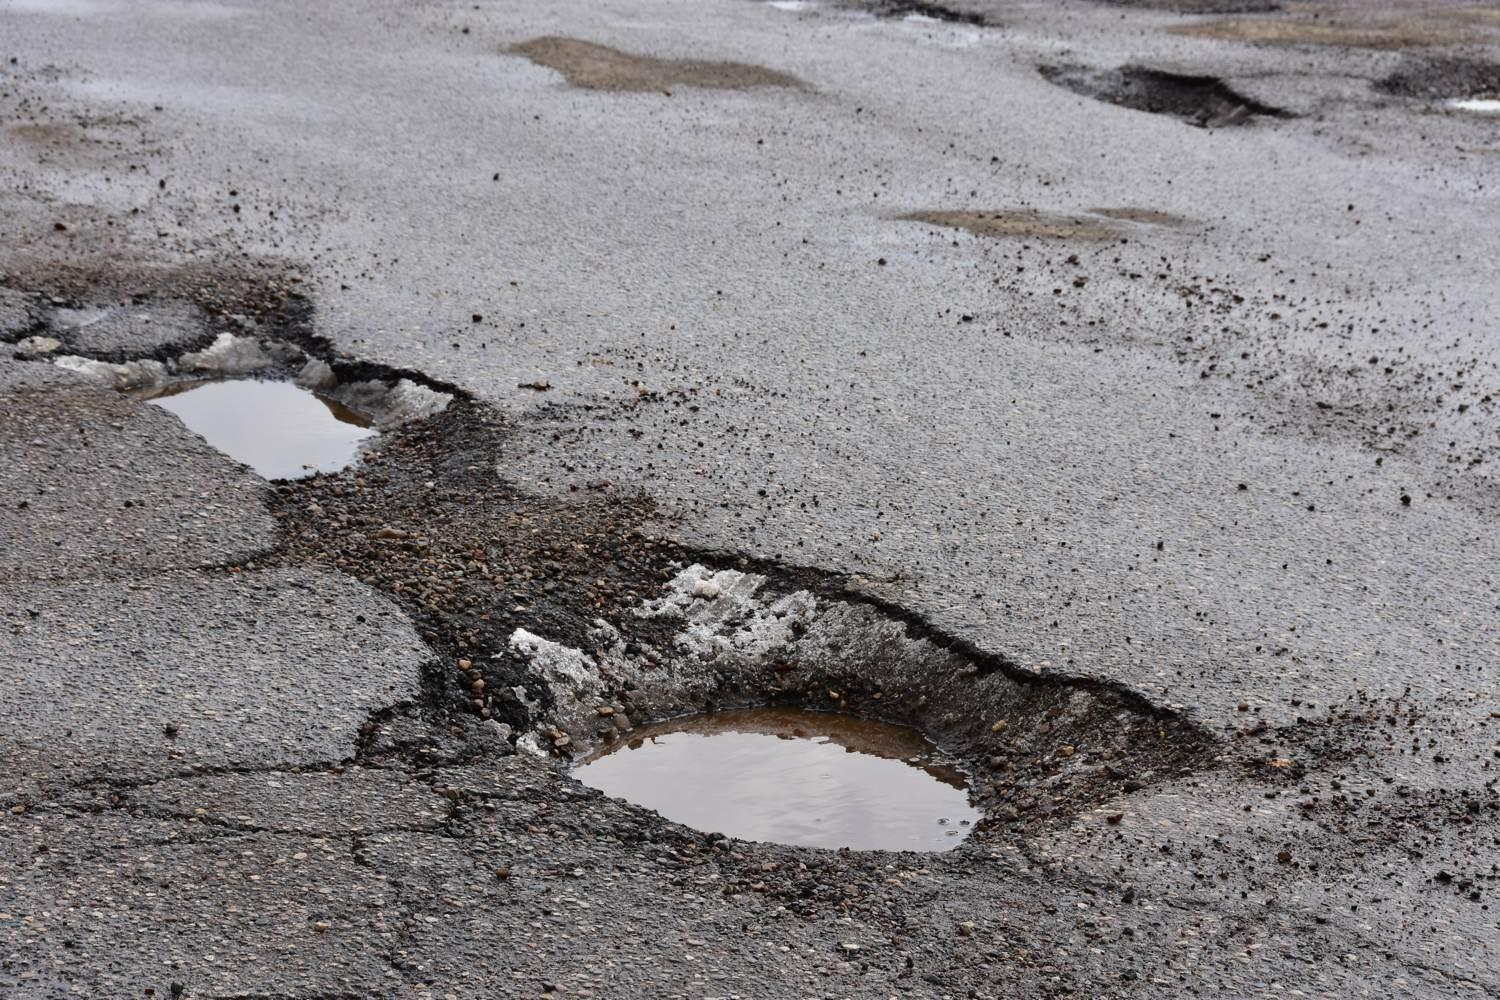Pothole: (342, 533, 1215, 898), (23, 238, 402, 512), (458, 1, 837, 140), (1048, 37, 1297, 153)
